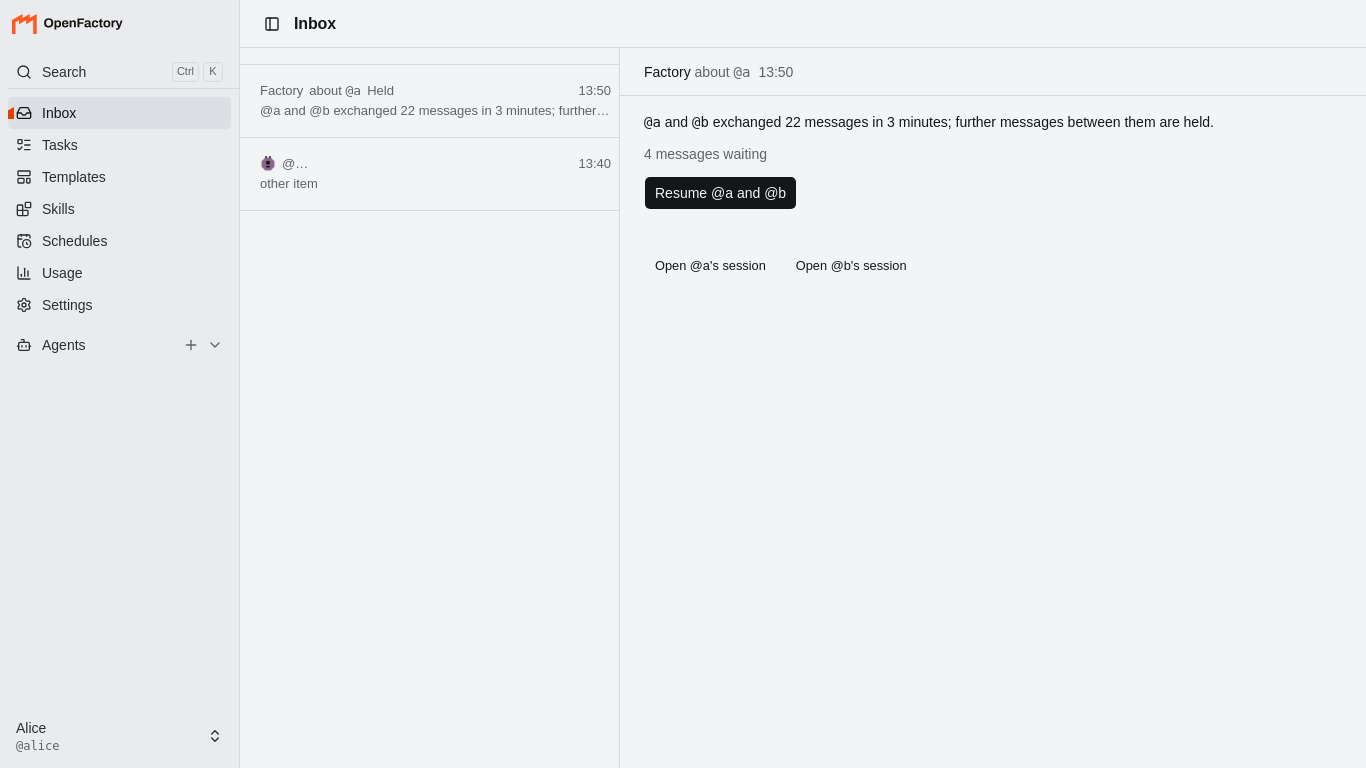
Test: a 409 with an empty resumedBy reads Resumed · time
The image size is (1366, 768).
Expected: the text "exchanged 22 messages" is shown, [709,114,1214,130]
Click the button "Resume @a and @b": (721, 193) [644,176,797,210]
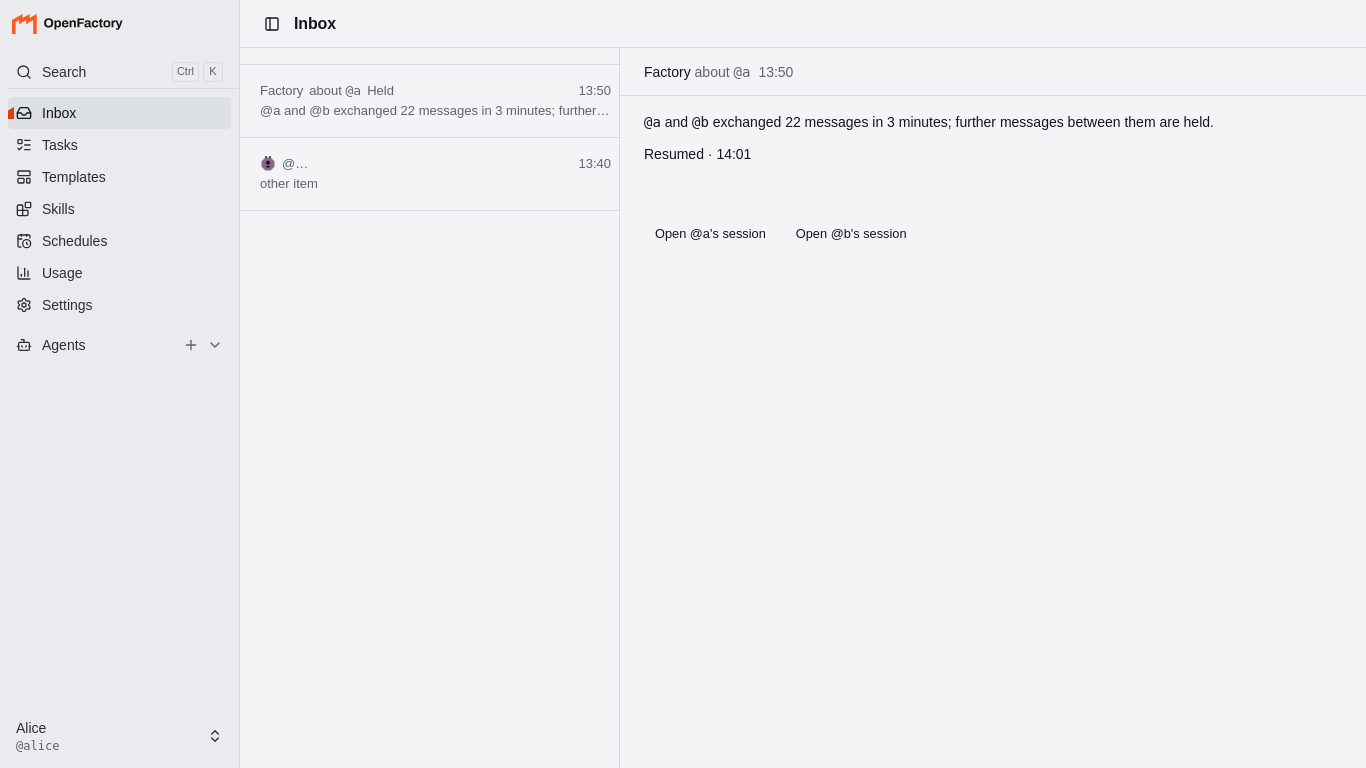
Now the message reads "Resumed · 14:01", box [644,144,751,164]
